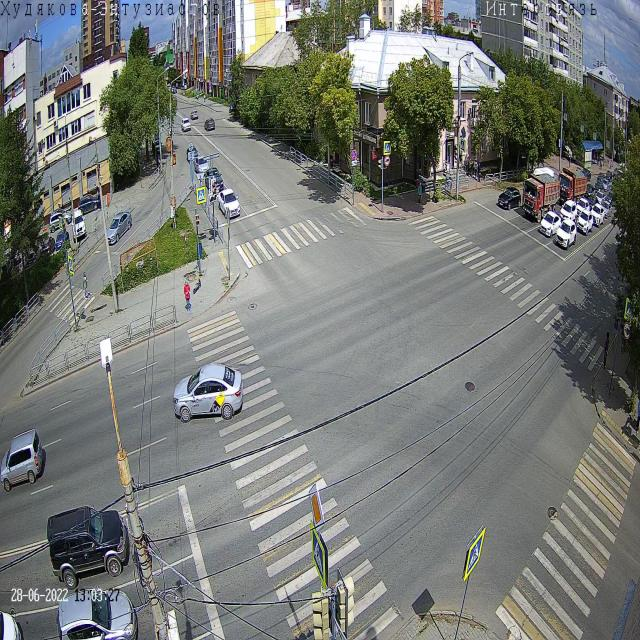car: (46, 503, 128, 592), (173, 362, 244, 425), (55, 587, 139, 640), (0, 427, 44, 492), (105, 210, 132, 246), (0, 609, 25, 640), (554, 218, 577, 251), (218, 187, 241, 219), (538, 210, 562, 238), (498, 186, 521, 211), (205, 166, 224, 196), (576, 208, 594, 236), (559, 200, 577, 226), (589, 202, 605, 228), (574, 198, 590, 221), (194, 155, 210, 177), (187, 145, 200, 166), (586, 195, 599, 213), (604, 190, 618, 206), (579, 166, 592, 183), (601, 200, 612, 219), (584, 183, 596, 199), (593, 180, 604, 196), (153, 138, 163, 155), (182, 117, 192, 133), (204, 118, 215, 131), (601, 179, 611, 192), (597, 172, 606, 185), (190, 110, 199, 121), (604, 170, 612, 182), (613, 167, 620, 177)
pedestrian: (183, 278, 193, 315), (603, 330, 610, 371), (82, 271, 91, 302), (636, 393, 640, 437), (417, 181, 423, 205), (444, 170, 450, 192), (474, 158, 479, 182), (477, 160, 482, 184), (143, 152, 148, 173), (467, 156, 471, 178), (472, 156, 475, 178), (599, 157, 603, 171), (568, 153, 571, 170), (606, 154, 610, 166), (596, 154, 600, 166), (196, 91, 200, 102), (203, 92, 206, 104), (610, 157, 612, 170)
shuttle_taxi: (526, 166, 555, 198)
truck: (520, 173, 560, 223), (556, 166, 588, 207)
